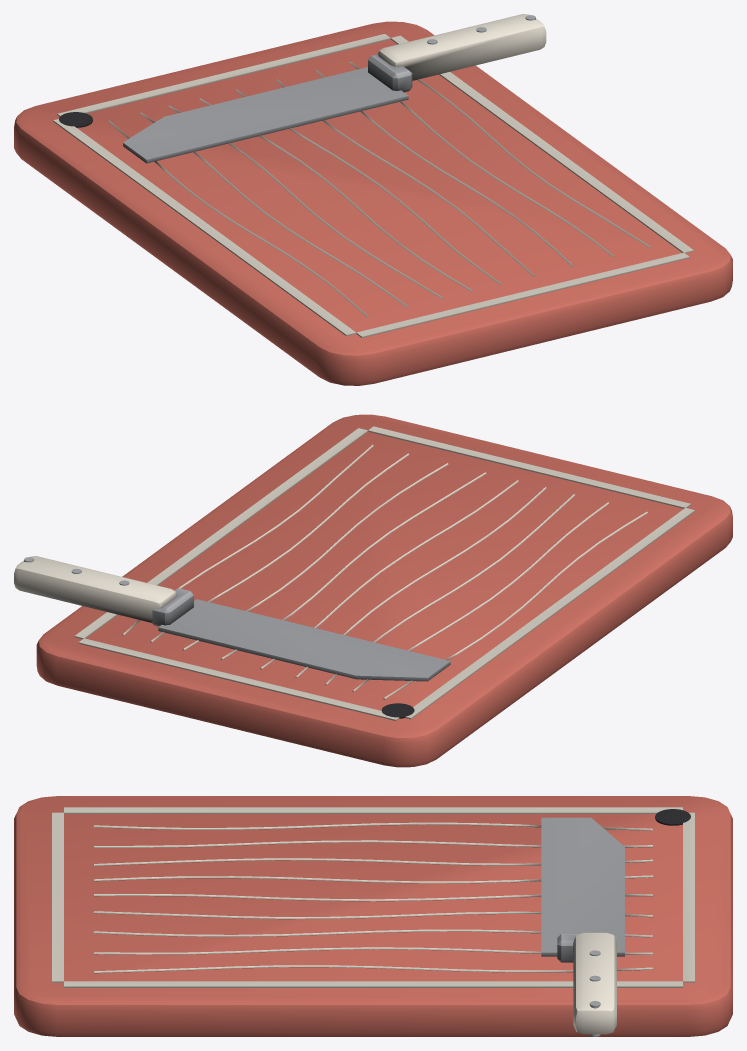
Rendered from kit_board.glb.
3 renders of one model, top to bottom at view 1: azimuth 30°, elevation 25°; view 2: azimuth 150°, elevation 25°; view 3: azimuth 270°, elevation 25°, orthographic. The views are drawn at different scales.
Parts seen in each view (by area): view 1: PART, P_knife; view 2: PART, P_knife; view 3: PART, P_knife.
Boxes of the visible parts, x1=… form: PART: x1=14, y1=21, x2=732, y2=385; P_knife: x1=123, y1=14, x2=546, y2=163; PART: x1=36, y1=414, x2=732, y2=767; P_knife: x1=14, y1=556, x2=450, y2=681; PART: x1=14, y1=796, x2=732, y2=1036; P_knife: x1=541, y1=817, x2=624, y2=1036.
Bounding box in the file's own units: 0.2905 × 0.0366 × 0.36.
